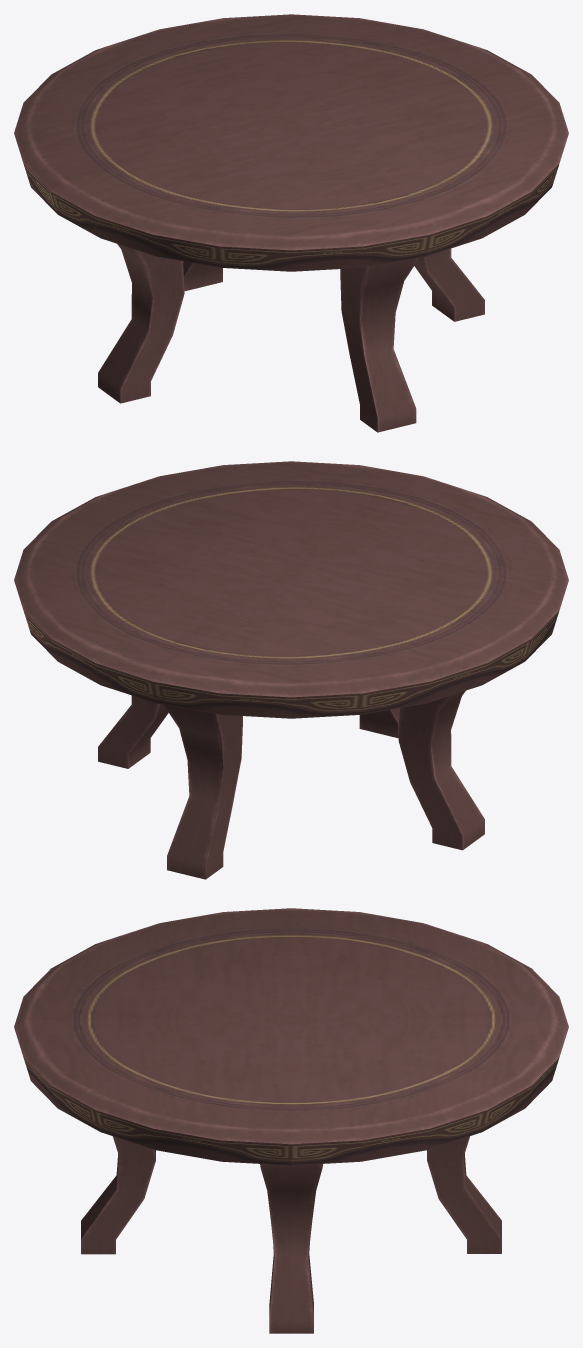
File: Homeworld_Interior_Ly_Table_Table_07_Vo.fbx
The picture shows the model from 3 angles, top to bottom: view 1: azimuth 30°, elevation 25°; view 2: azimuth 150°, elevation 25°; view 3: azimuth 270°, elevation 25°; orthographic projection.
Visible parts, largest first — view 1: Area_Ly_Prop_Common_Table_B_01_Vo; view 2: Area_Ly_Prop_Common_Table_B_01_Vo; view 3: Area_Ly_Prop_Common_Table_B_01_Vo.
Boxes of the visible parts, x1,y1,x2,y2 form: Area_Ly_Prop_Common_Table_B_01_Vo: (14, 14, 568, 432); Area_Ly_Prop_Common_Table_B_01_Vo: (14, 461, 568, 879); Area_Ly_Prop_Common_Table_B_01_Vo: (14, 908, 568, 1333).
Bounding box in the file's own units: 1.75 × 0.7845 × 1.75.
